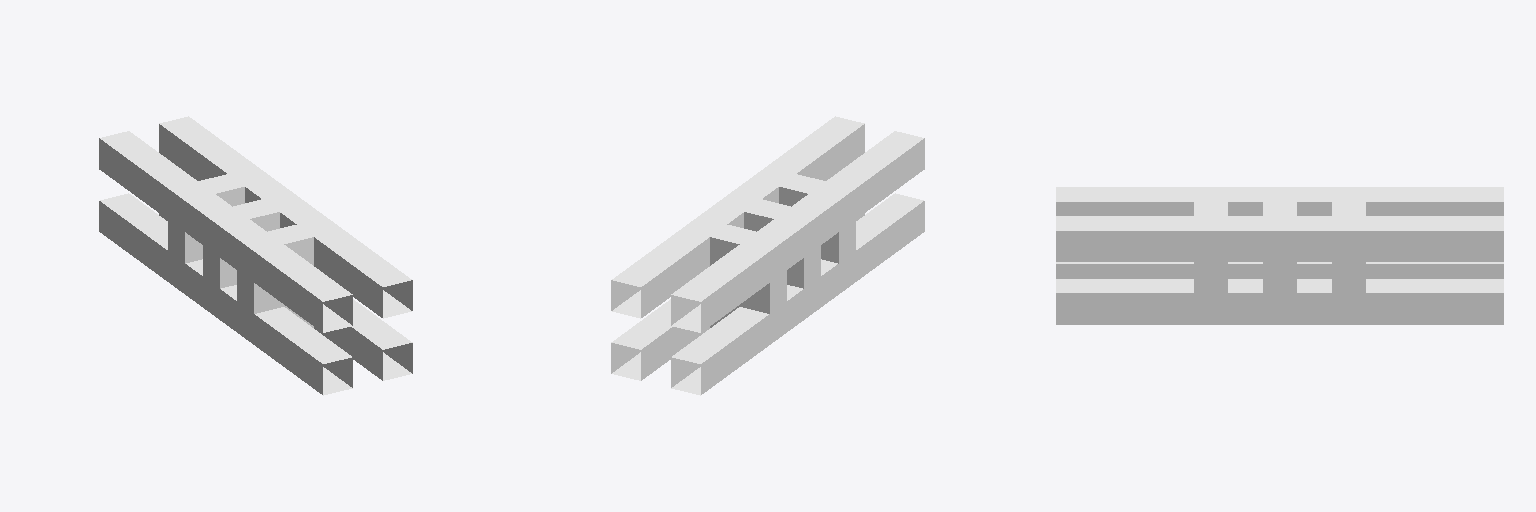
The model's file is impulse_cannon_burst.obj.
3 renders of one model, left to right at view 1: azimuth 30°, elevation 25°; view 2: azimuth 150°, elevation 25°; view 3: azimuth 270°, elevation 25°, orthographic.
Visible parts, largest first — view 1: Beam_Augment_Burst-Shot_cube.002; view 2: Beam_Augment_Burst-Shot_cube.002; view 3: Beam_Augment_Burst-Shot_cube.002.
Part boxes in pixels (x1,y1,x2,y2): Beam_Augment_Burst-Shot_cube.002: (99, 116, 412, 395); Beam_Augment_Burst-Shot_cube.002: (611, 116, 924, 395); Beam_Augment_Burst-Shot_cube.002: (1056, 187, 1503, 324).
Size of the model in its own units: 0.0938 by 0.0938 by 0.4062.